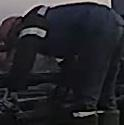gloves: (2, 87, 20, 108)
helmet: (0, 15, 22, 47)
vest: (24, 2, 121, 57)
